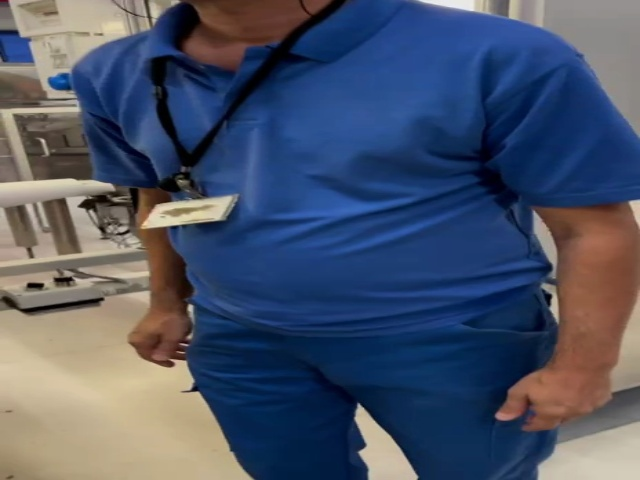No_Vest: (98, 9, 580, 317)
Person: (73, 1, 639, 477)
